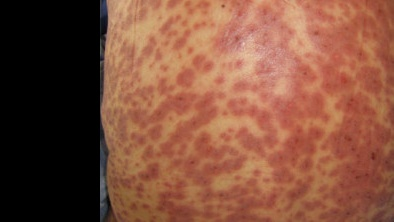SJS-TEN: (102, 1, 394, 222)
